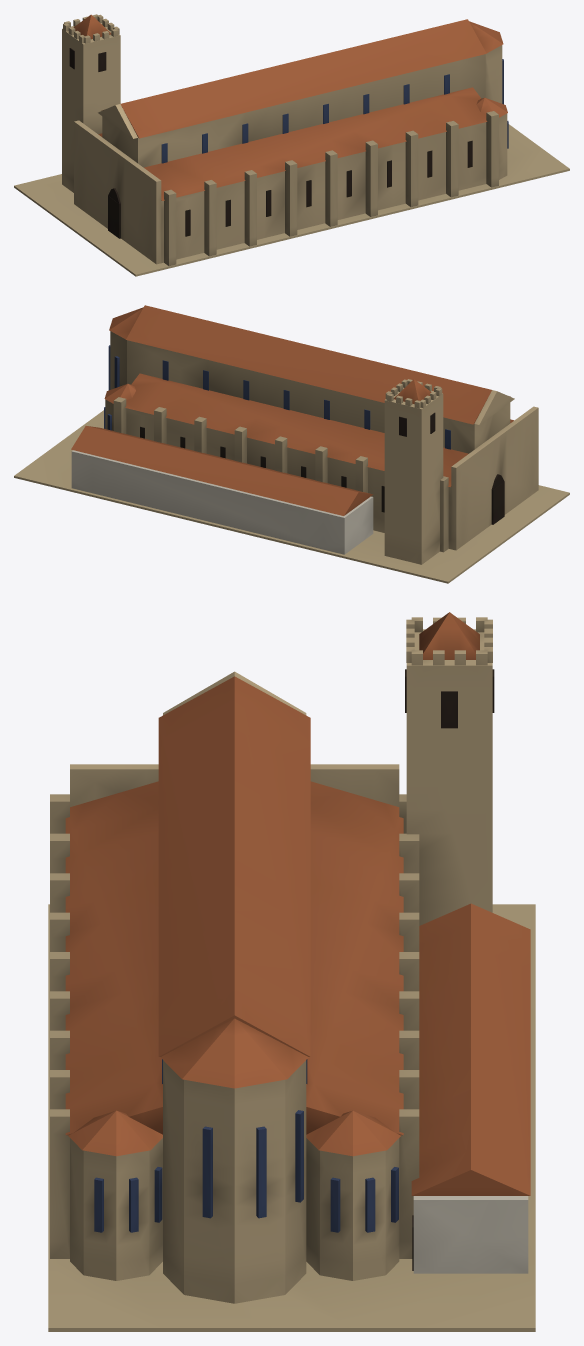
The model's file is san-pablo.glb.
The picture shows the model from 3 angles, top to bottom: view 1: azimuth 30°, elevation 25°; view 2: azimuth 150°, elevation 25°; view 3: azimuth 270°, elevation 25°; orthographic projection. The views are drawn at different scales.
Parts seen in each view (by area): view 1: p1_church, p0_ground, p2_tower; view 2: p1_church, p2_tower, p0_ground; view 3: p1_church, p0_ground, p2_tower.
Part boxes in pixels (left/top/right/bottom): p1_church: left=74, top=19, right=508, bottom=266; p0_ground: left=14, top=124, right=569, bottom=276; p2_tower: left=62, top=14, right=120, bottom=192; p1_church: left=71, top=305, right=538, bottom=554; p2_tower: left=384, top=379, right=443, bottom=564; p0_ground: left=14, top=410, right=569, bottom=583; p1_church: left=50, top=671, right=530, bottom=1303; p0_ground: left=48, top=904, right=535, bottom=1331; p2_tower: left=405, top=612, right=494, bottom=925.
Bounding box in the file's own units: 70 × 27 × 34.
